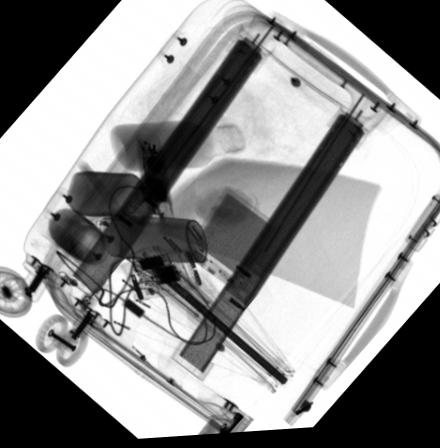Powerbank: (185, 188, 282, 297)
